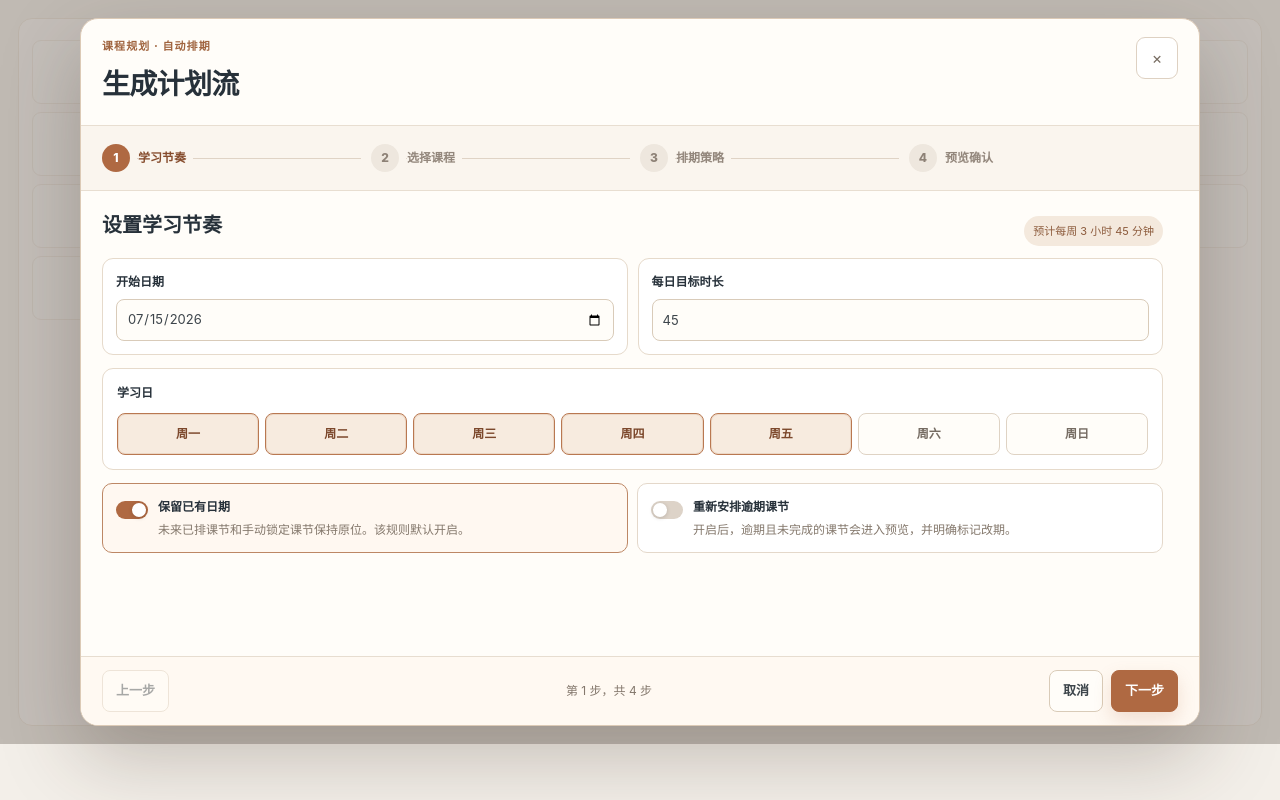
Test: PlanFlowPanel › keeps retry available when structured constraints cannot produce a preview
Click the button "下一步": [1144, 691] box [1111,670,1178,712]
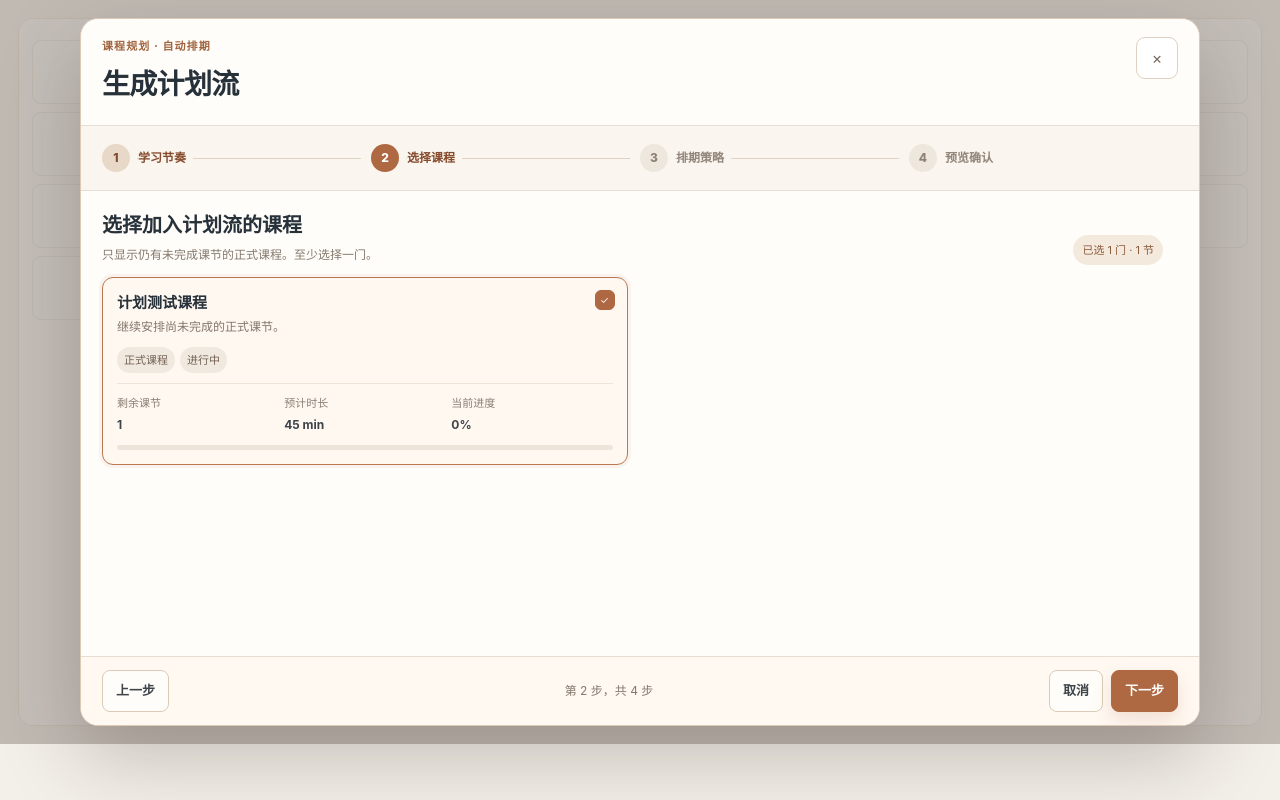
Click the button "下一步": [1144, 691] box [1111,670,1178,712]
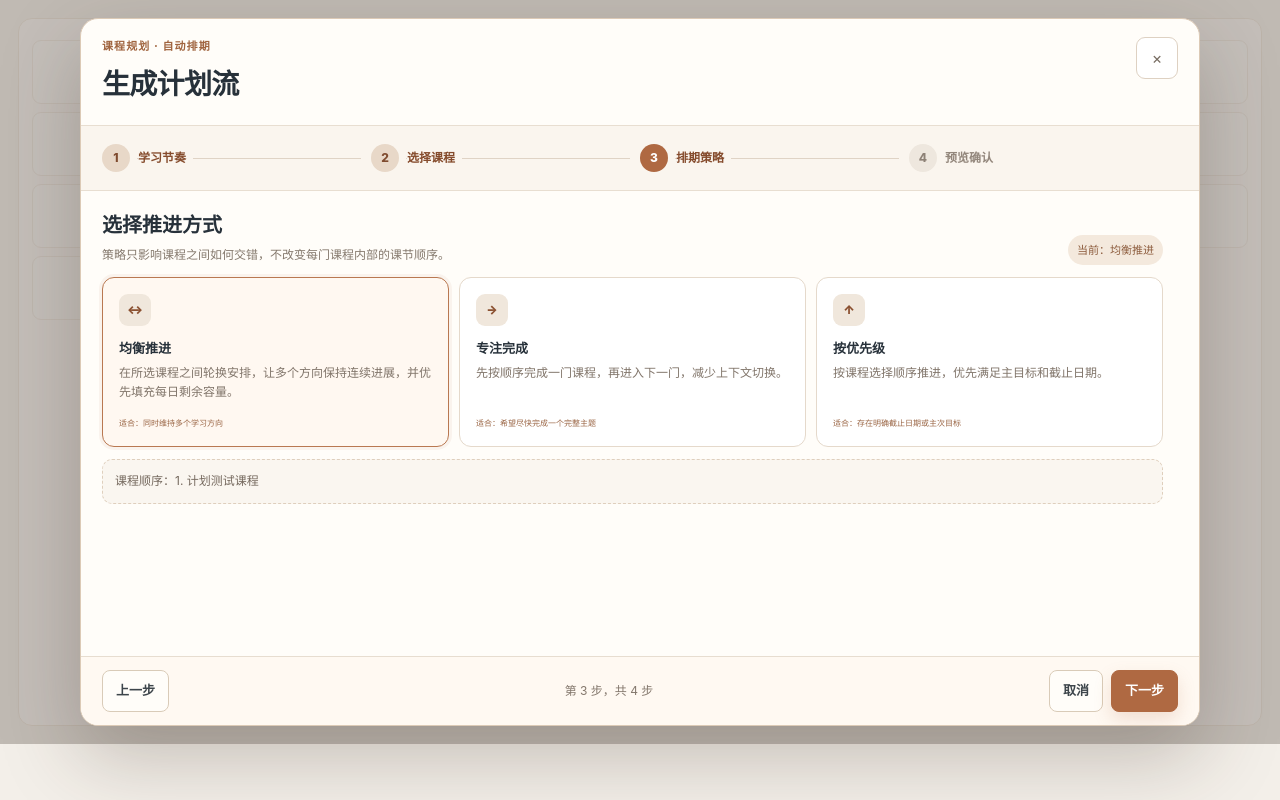
Click the button "下一步": [1144, 691] box [1111,670,1178,712]
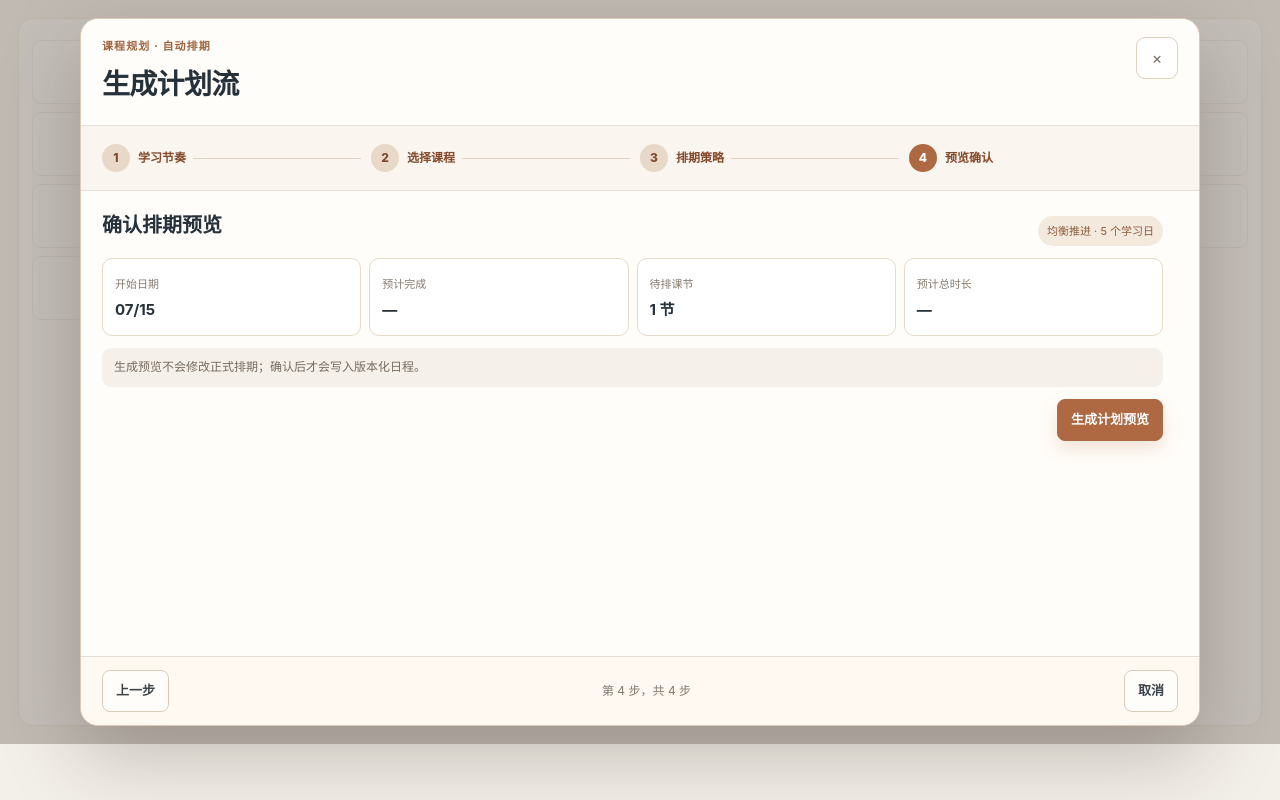
Click the button "生成计划预览": [1110, 420] box [1057,399,1163,441]
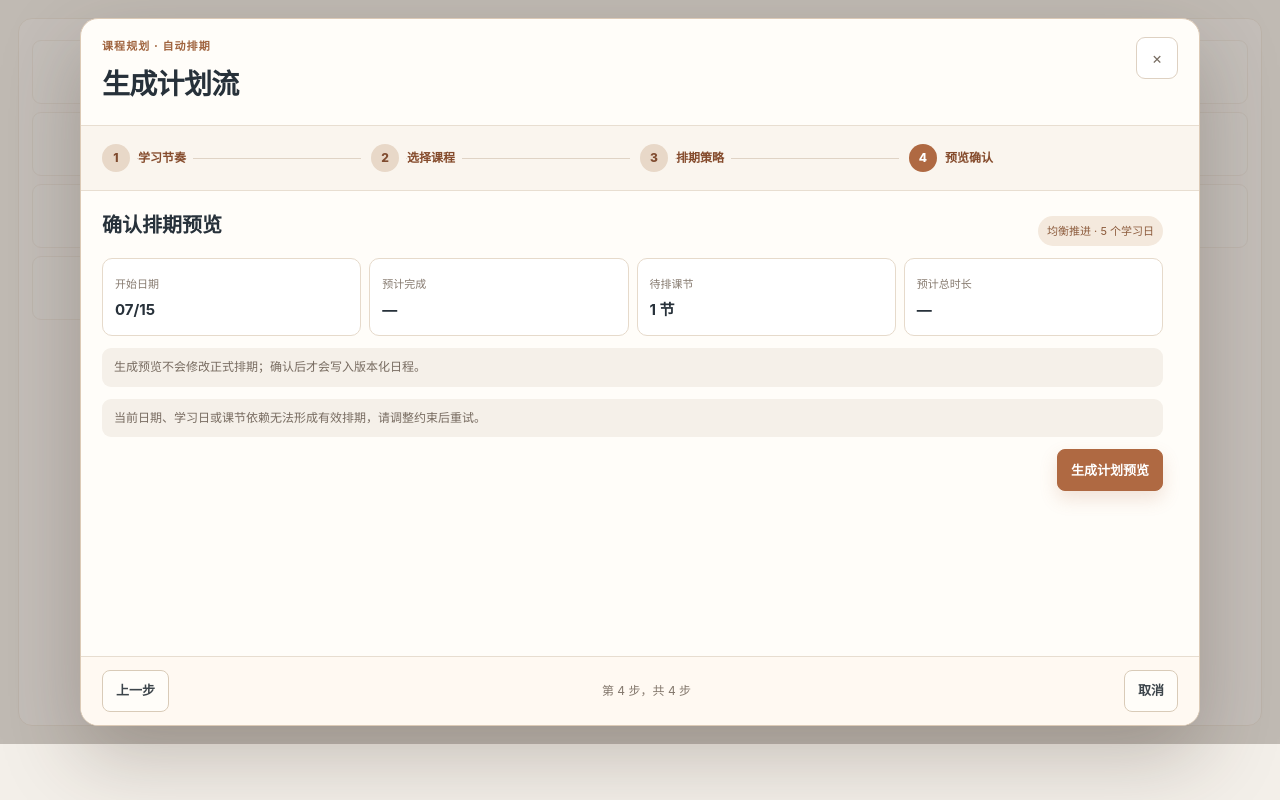
Expected: the button "生成计划预览" is enabled, [1057,449,1163,491]
Result: the text "当前日期、学习日或课节依赖无法形成有效排期，请调整约束后重试。" is shown at [102,399,1163,437]
